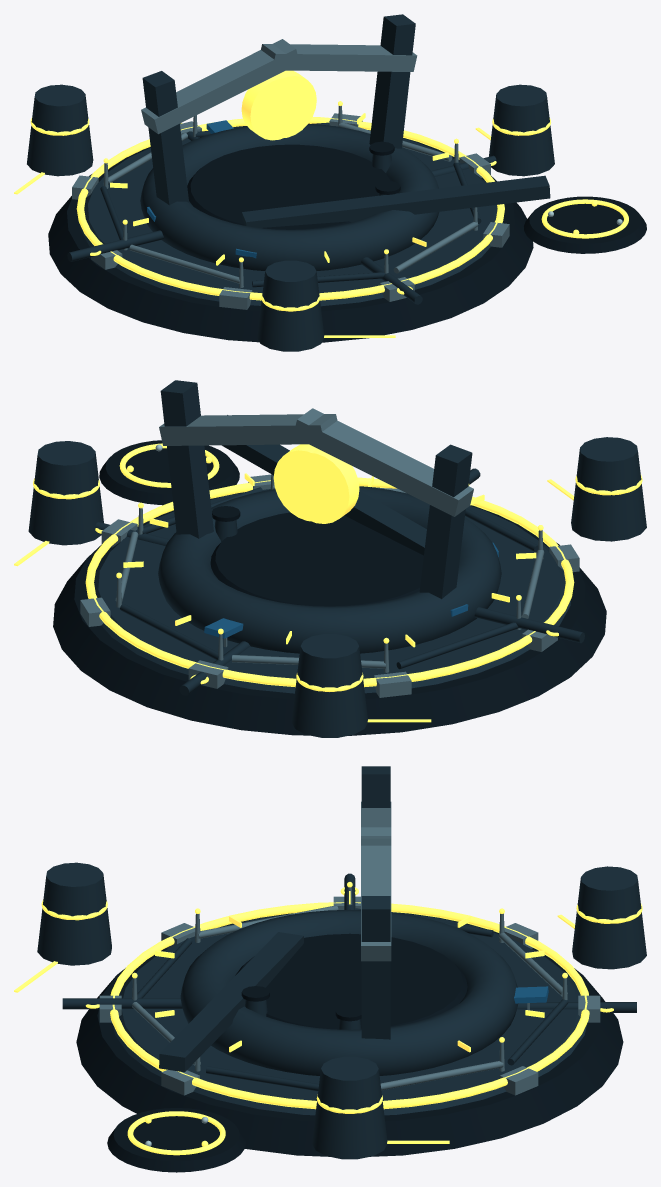
The model's file is metalMine-stage2.glb.
3 views of the same model, one above another, from view 1: azimuth 30°, elevation 25°; view 2: azimuth 150°, elevation 25°; view 3: azimuth 270°, elevation 25° (orthographic). The views are drawn at different scales.
Parts seen in each view (by area): view 1: armored-foundation, excavation-rim, upper-deck, excavation-pit, excavator-boom (×2), excavator-tower (×2), ore-conveyor, refinery-annex-1, refinery-annex-2, refinery-annex-0, landing-pad, perimeter-light (+9 smaller); view 2: armored-foundation, excavation-rim, upper-deck, excavation-pit, excavator-boom (×2), excavator-tower (×2), bucket-wheel (×2), refinery-annex-2, refinery-annex-1, refinery-annex-0, perimeter-light, landing-pad (+14 smaller); view 3: excavation-rim, armored-foundation, upper-deck, excavation-pit, perimeter-light, refinery-annex-0, refinery-annex-2, refinery-annex-1, landing-pad, ore-conveyor, excavator-tower (×2), excavator-boom (×2) (+11 smaller).
Part boxes in pixels (x1,y1,x2,y2): armored-foundation: [48, 126, 533, 342]; excavation-rim: [140, 123, 439, 270]; upper-deck: [79, 126, 502, 306]; excavation-pit: [187, 144, 391, 229]; excavator-boom (×2): [141, 39, 417, 134]; excavator-tower (×2): [142, 14, 415, 205]; ore-conveyor: [242, 175, 550, 228]; refinery-annex-1: [257, 260, 324, 351]; refinery-annex-2: [27, 84, 93, 176]; refinery-annex-0: [489, 84, 554, 176]; landing-pad: [524, 196, 646, 253]; perimeter-light: [76, 117, 504, 300]; armored-foundation: [53, 486, 606, 735]; excavation-rim: [158, 486, 501, 653]; upper-deck: [87, 489, 570, 693]; excavation-pit: [210, 512, 423, 606]; excavator-boom (×2): [159, 408, 473, 516]; excavator-tower (×2): [160, 380, 472, 599]; bucket-wheel (×2): [273, 444, 359, 523]; refinery-annex-2: [291, 634, 367, 737]; refinery-annex-1: [571, 437, 646, 541]; refinery-annex-0: [28, 441, 103, 545]; perimeter-light: [85, 477, 574, 687]; landing-pad: [99, 440, 239, 505]; excavation-rim: [180, 909, 518, 1075]; armored-foundation: [76, 912, 623, 1156]; upper-deck: [112, 912, 587, 1115]; excavation-pit: [235, 933, 467, 1029]; perimeter-light: [110, 902, 589, 1109]; refinery-annex-0: [312, 1056, 387, 1159]; refinery-annex-2: [572, 866, 646, 969]; refinery-annex-1: [37, 862, 111, 965]; landing-pad: [107, 1108, 245, 1172]; ore-conveyor: [159, 932, 303, 1072]; excavator-tower (×2): [361, 766, 390, 1039]; excavator-boom (×2): [361, 801, 391, 961].
Bounding box in the file's own units: 11.3 × 4.08 × 11.19.
